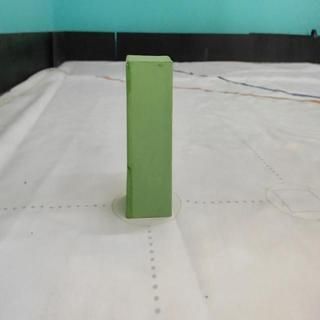greenbox: (124, 55, 173, 219)
